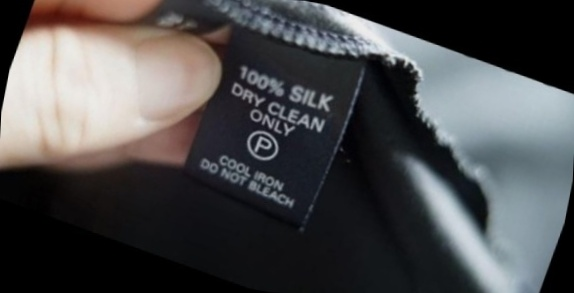dry_clean_any_solvent_except_trichloroethylene: (242, 124, 286, 166)
